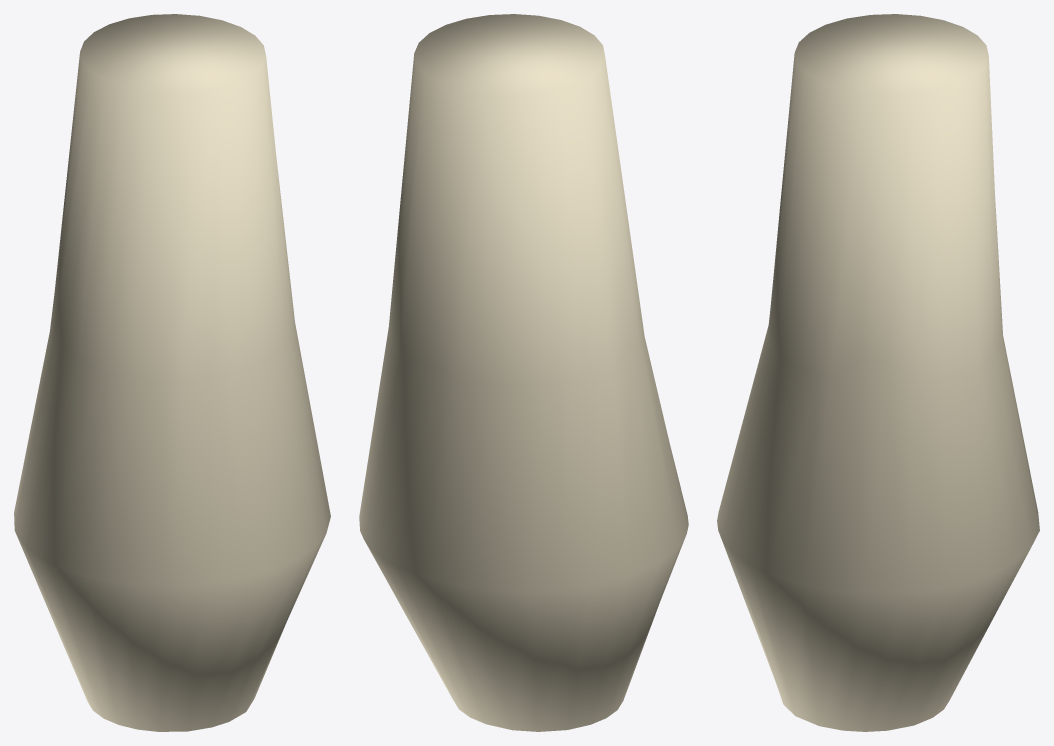
File: mushroombase.glb
3 views of the same model, side by side, from view 1: azimuth 30°, elevation 25°; view 2: azimuth 150°, elevation 25°; view 3: azimuth 270°, elevation 25° (orthographic). The views are drawn at different scales.
Visible parts, largest first — view 1: Cylinder; view 2: Cylinder; view 3: Cylinder.
Boxes of the visible parts, x1,y1,x2,y2 form: Cylinder: (14, 14, 330, 731); Cylinder: (359, 14, 688, 731); Cylinder: (717, 14, 1039, 731).
Bounding box in the file's own units: 0.9025 × 1.96 × 0.8847.
